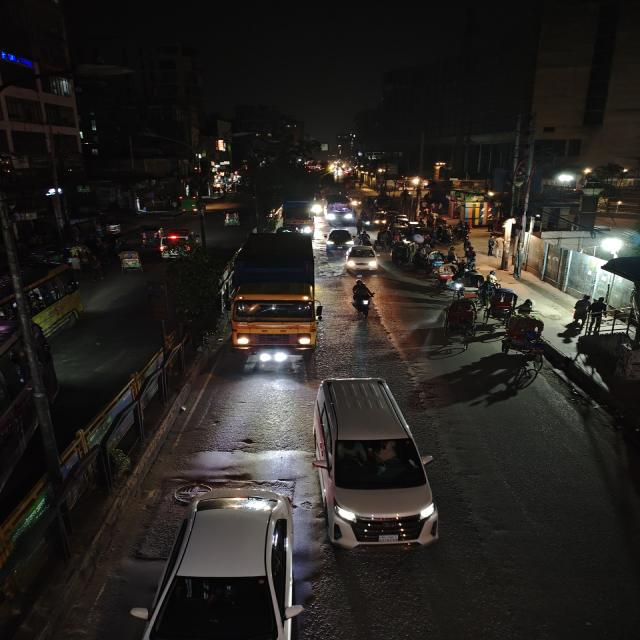bus: (0, 260, 86, 360), (324, 192, 355, 225)
car: (312, 373, 438, 560), (153, 479, 297, 640), (343, 244, 382, 274), (325, 227, 356, 249)
cng: (157, 233, 195, 261), (138, 225, 162, 248), (220, 209, 243, 228)
motorcycle: (347, 277, 381, 321), (434, 261, 460, 291), (517, 296, 538, 318)
pedestrian: (589, 294, 607, 332), (570, 294, 592, 324), (509, 250, 527, 280), (462, 242, 479, 270), (486, 268, 501, 288), (486, 237, 499, 258), (498, 250, 511, 270)
rickshaw: (438, 298, 496, 348), (497, 314, 548, 356), (488, 288, 517, 317), (114, 247, 144, 275)
truck: (226, 229, 323, 369), (282, 196, 317, 235)
